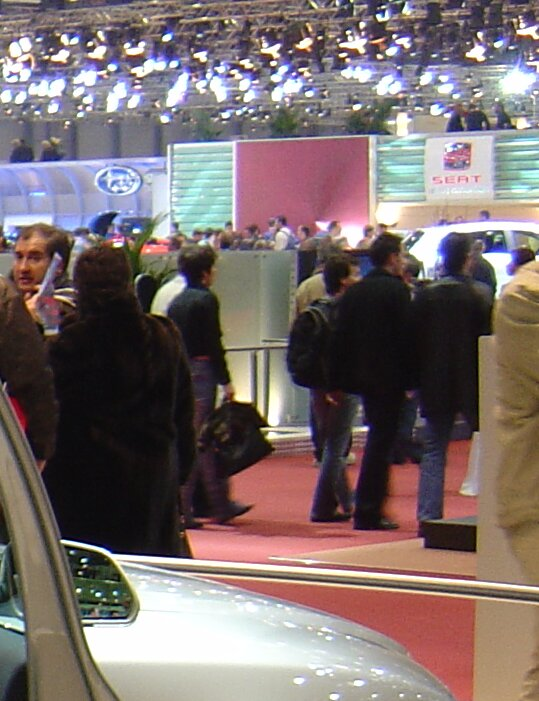person: (48, 239, 199, 560), (142, 243, 280, 527), (345, 232, 424, 550)
